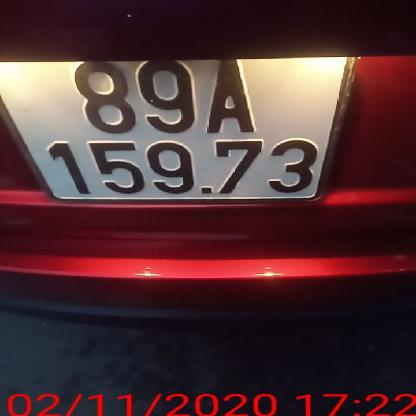biensoxe: (1, 59, 344, 213)
